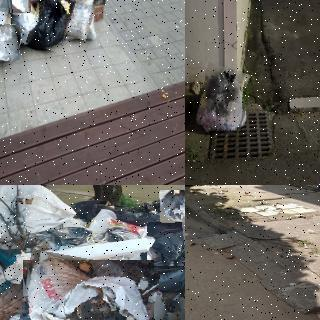Garbage: (20, 254, 156, 320), (194, 65, 252, 134), (29, 0, 72, 51), (146, 221, 185, 266), (62, 0, 101, 40), (159, 189, 185, 222), (0, 24, 21, 61), (0, 0, 30, 13), (0, 0, 11, 32)
